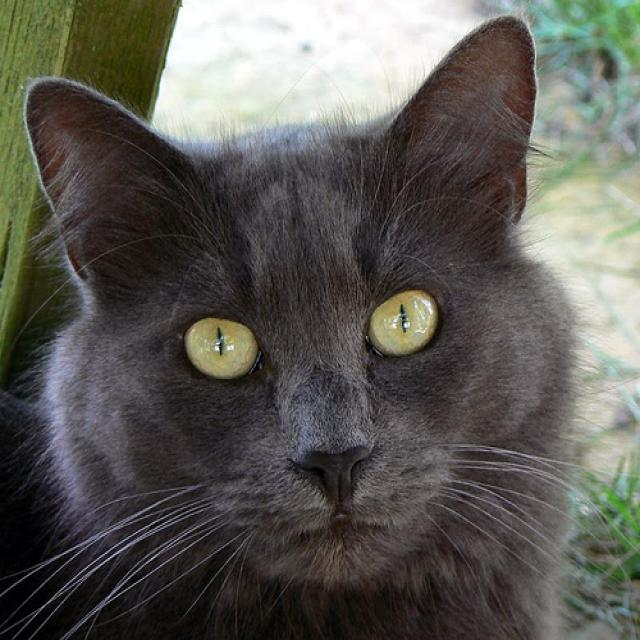cat: (1, 14, 591, 640)
